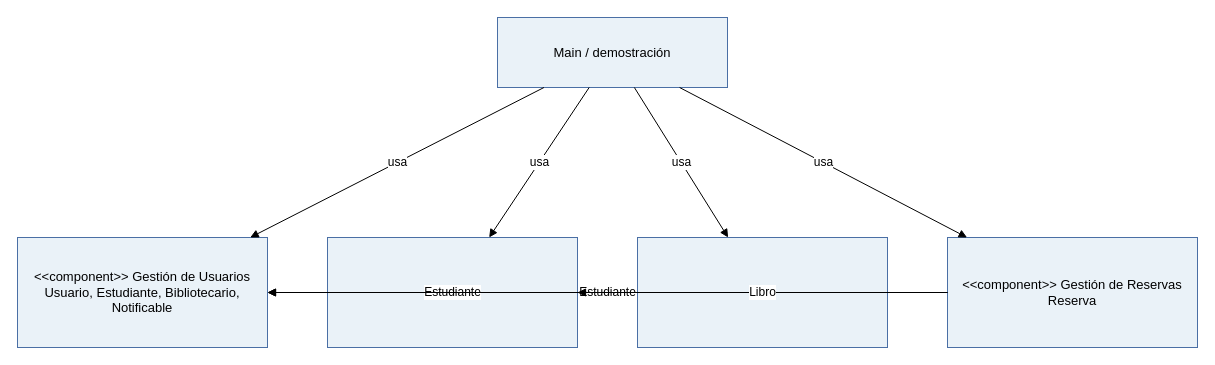
This 1215x365 diagram has some shape labels left out. Here are the shapes that lost their labels. From the top down, the centre of each, then its label:
the point at 452,292: <<component>> Gestión de Catálogo Libro, Ejemplar
the point at 762,292: <<component>> Gestión de Préstamos Prestamo, Renovacion
